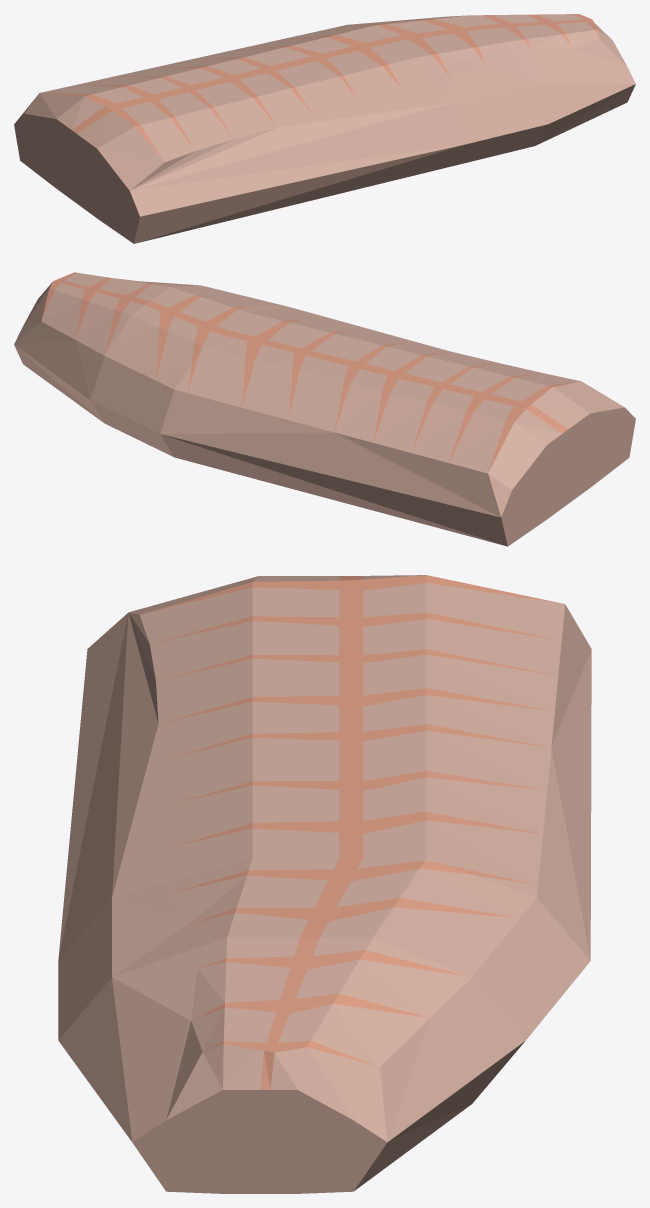
File: FishFilletCooked.fbx
3 views of the same model, one above another, from view 1: azimuth 30°, elevation 25°; view 2: azimuth 150°, elevation 25°; view 3: azimuth 270°, elevation 25° (orthographic). The views are drawn at different scales.
Parts seen in each view (by area): view 1: Cylinder, Cylinder.001; view 2: Cylinder, Cylinder.001; view 3: Cylinder, Cylinder.001.
Part boxes in pixels (x1,y1,x2,y2): Cylinder: (14,14,635,243); Cylinder.001: (42,14,599,161); Cylinder: (14,272,635,546); Cylinder.001: (41,272,578,472); Cylinder: (58,575,591,1193); Cylinder.001: (142,575,562,1089).
Size of the model in its own units: 46.52 by 7.4 by 21.18.
